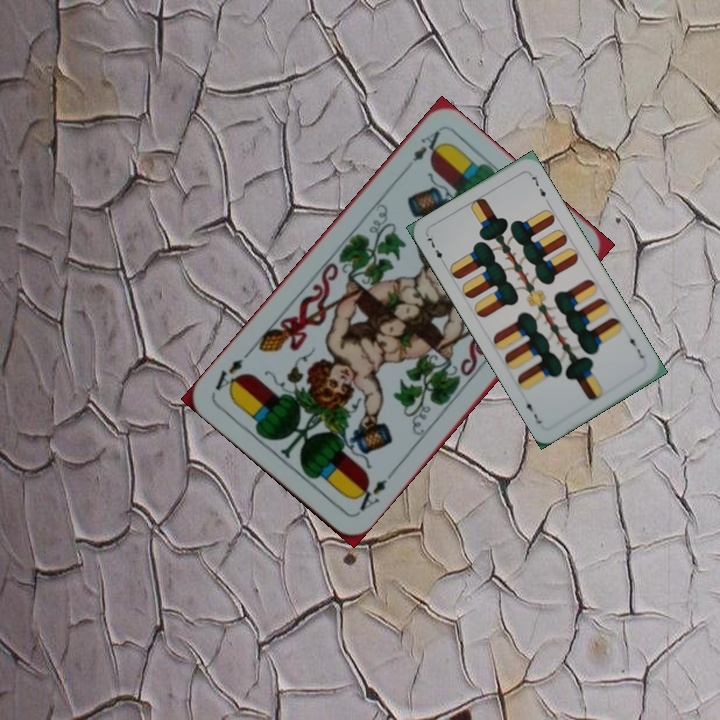E7: (423, 231, 449, 268), (625, 330, 647, 361)
EA: (350, 474, 390, 517), (408, 126, 446, 165)
